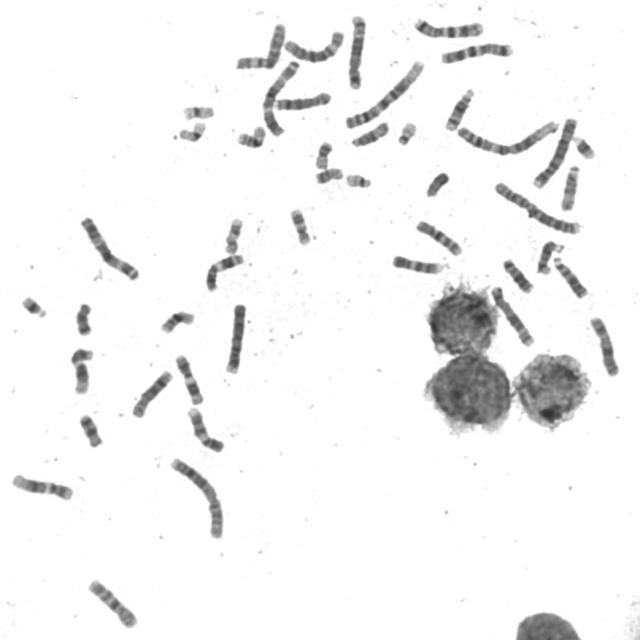A1: (342, 57, 426, 131), (454, 116, 561, 156)
A2: (490, 178, 582, 236), (166, 454, 227, 540)
A3: (76, 213, 142, 282), (258, 57, 302, 137)
B4: (529, 114, 580, 190), (221, 300, 248, 376)
B5: (488, 283, 536, 349), (344, 11, 368, 91)
C10: (84, 576, 140, 630), (412, 217, 464, 258)
C11: (171, 351, 206, 406), (202, 252, 246, 294)
C12: (8, 470, 75, 502), (66, 344, 95, 396)
C6: (232, 19, 288, 71), (281, 27, 347, 64)
C7: (437, 39, 515, 65), (410, 14, 486, 39)
C8: (128, 367, 174, 420), (271, 88, 333, 112)
C9: (183, 404, 226, 454), (388, 251, 445, 276)
D13: (550, 253, 590, 300), (499, 255, 535, 295)
D14: (442, 85, 476, 132), (534, 238, 566, 276)
D15: (348, 118, 391, 149), (558, 161, 582, 212)
E16: (157, 308, 196, 336), (234, 123, 267, 149)
E17: (287, 205, 312, 247), (221, 215, 245, 256)
E18: (75, 411, 105, 449), (72, 299, 94, 338)
F19: (175, 119, 208, 143), (179, 102, 215, 121)
F20: (312, 138, 334, 171), (312, 164, 344, 185)
G21: (17, 293, 49, 320), (570, 132, 598, 162)
G22: (393, 118, 418, 146), (342, 170, 374, 190)
X: (586, 313, 622, 378)
Y: (423, 168, 451, 198)
